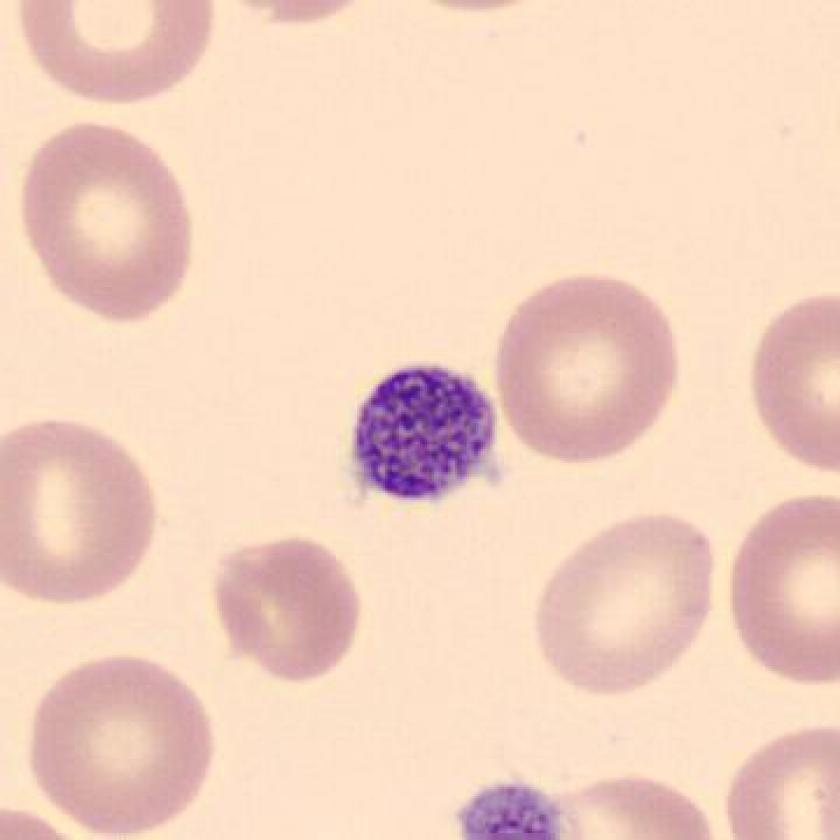platelets: (342, 355, 510, 526), (447, 774, 566, 840)
